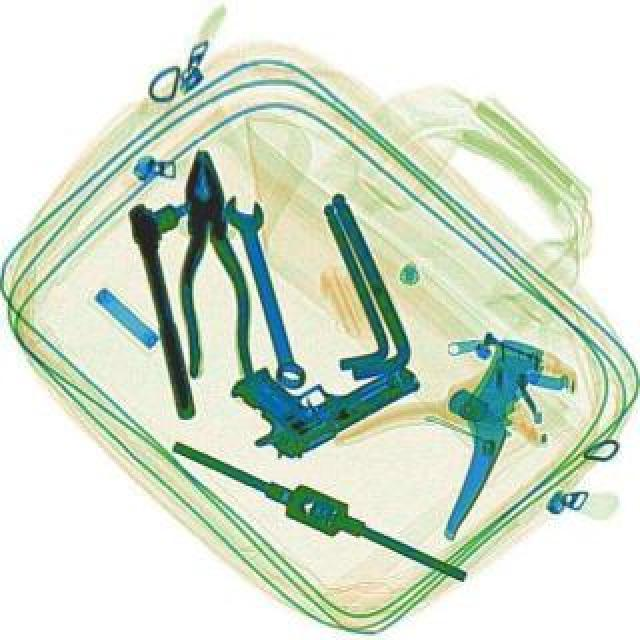gun: (216, 306, 424, 474)
scissors: (218, 188, 310, 390)
wrench: (164, 146, 258, 382)
